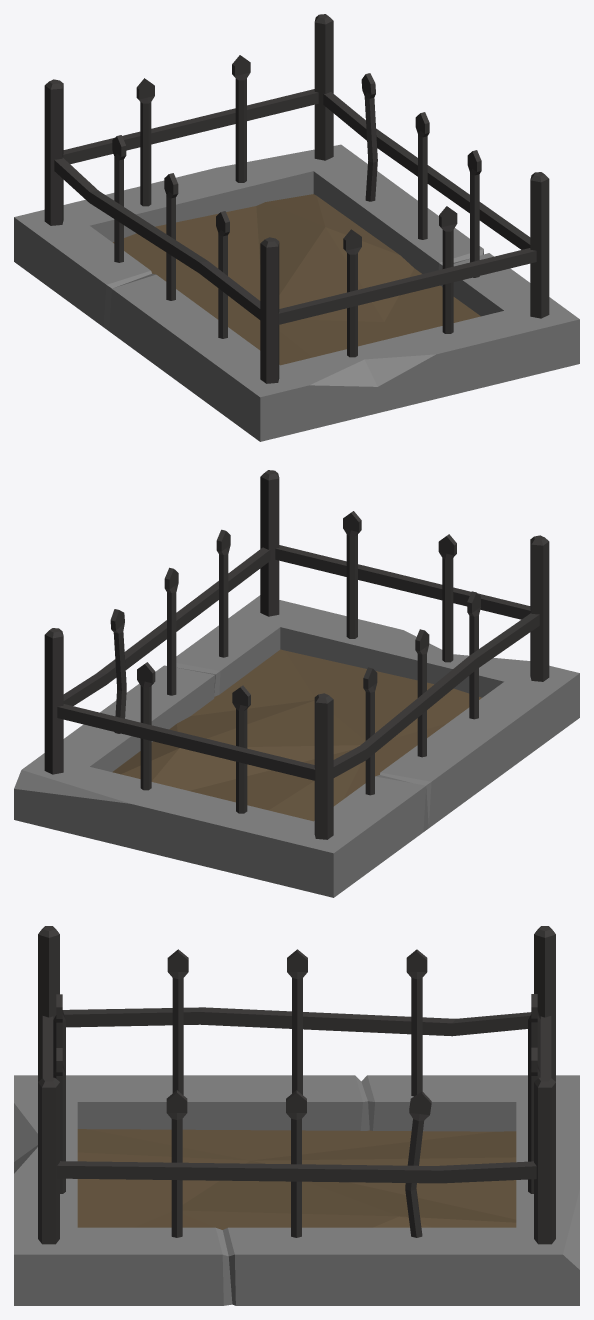
The model's file is SM_Envr_Nature_Terrain_Water.fbx.
3 renders of one model, top to bottom at view 1: azimuth 30°, elevation 25°; view 2: azimuth 150°, elevation 25°; view 3: azimuth 270°, elevation 25°, orthographic. The views are drawn at different scales.
Visible parts, largest first — view 1: SM_Bldg_Suburb_Sidewalk_Plant_Bed, SM_Bldg_Suburb_Sidewalk_Plant_Bed_Fence; view 2: SM_Bldg_Suburb_Sidewalk_Plant_Bed, SM_Bldg_Suburb_Sidewalk_Plant_Bed_Fence; view 3: SM_Bldg_Suburb_Sidewalk_Plant_Bed, SM_Bldg_Suburb_Sidewalk_Plant_Bed_Fence.
Part boxes in pixels (x1,y1,x2,y2): SM_Bldg_Suburb_Sidewalk_Plant_Bed: [14, 144, 579, 441]; SM_Bldg_Suburb_Sidewalk_Plant_Bed_Fence: [44, 14, 549, 383]; SM_Bldg_Suburb_Sidewalk_Plant_Bed: [14, 595, 579, 897]; SM_Bldg_Suburb_Sidewalk_Plant_Bed_Fence: [44, 470, 549, 839]; SM_Bldg_Suburb_Sidewalk_Plant_Bed: [14, 1075, 579, 1305]; SM_Bldg_Suburb_Sidewalk_Plant_Bed_Fence: [38, 926, 555, 1244].
Bounding box in the file's own units: 101 × 55.69 × 134.
